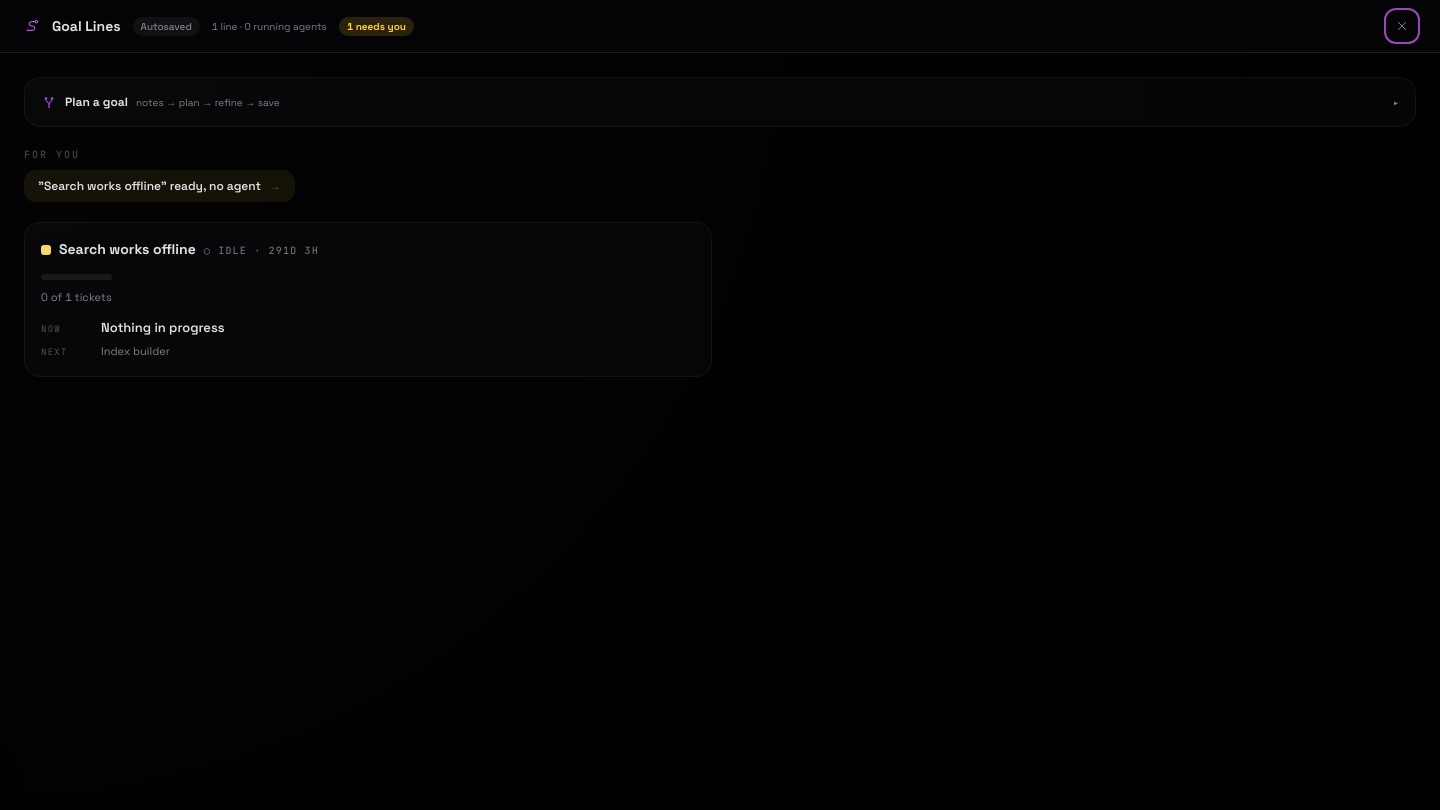
GoalLinesModal › clicking a card opens and closes an accessible large detail layer
The image size is (1440, 810).
Click the 4th button at (127, 249), box [25,223,711,376]
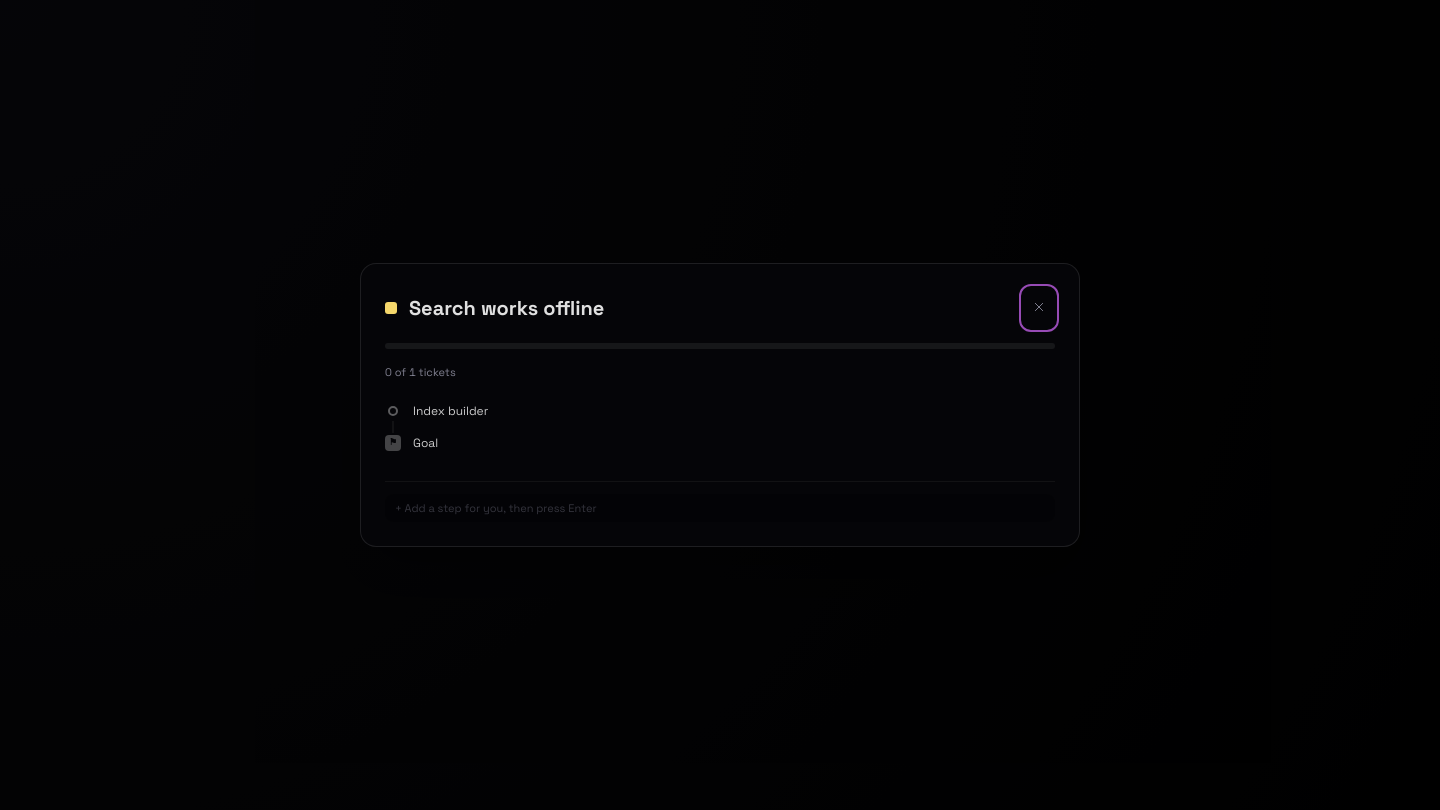
Expected: the number of dialogs is 1, [360,263,1080,547]
Press Escape
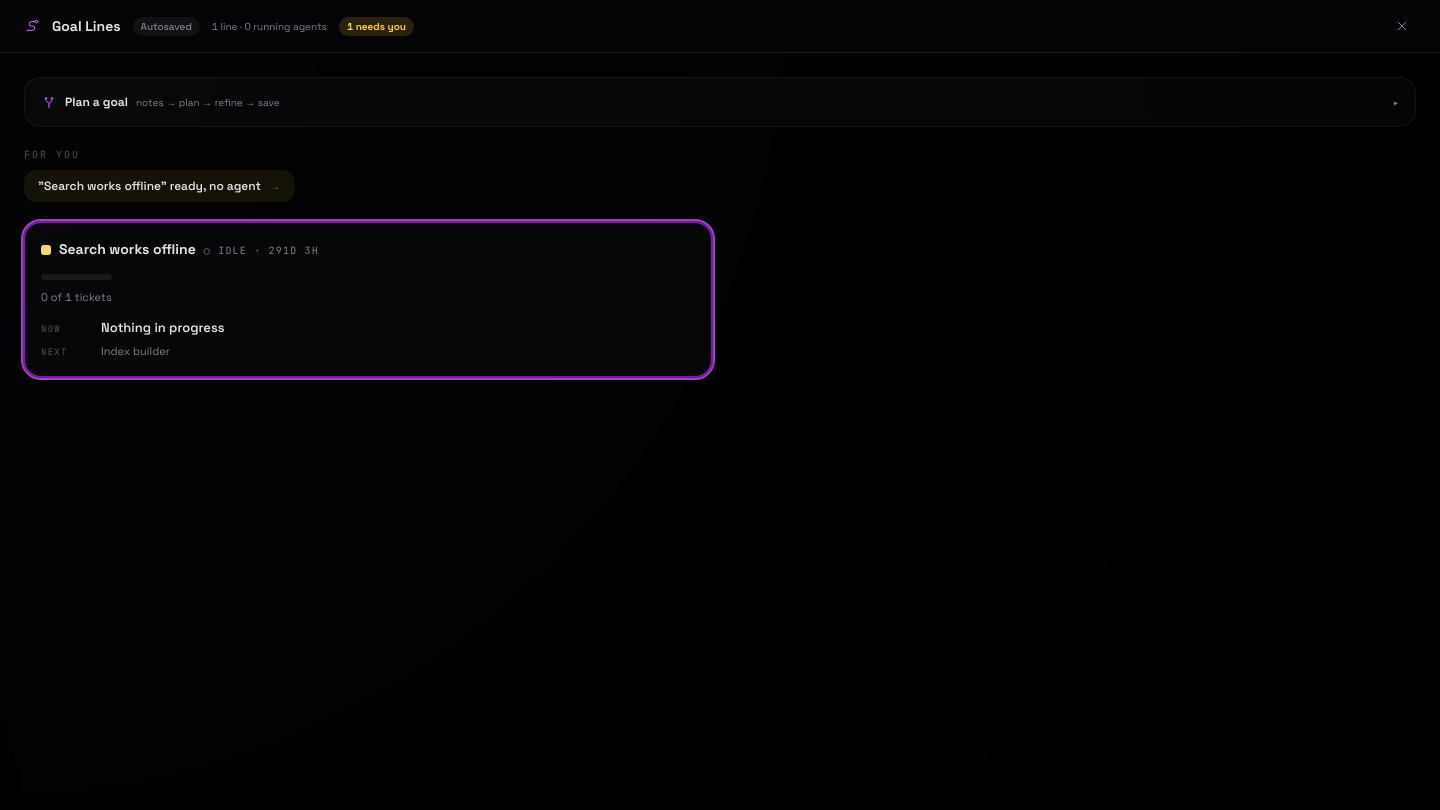
Expected: the dialog with test id "goal-line-detail" is gone
